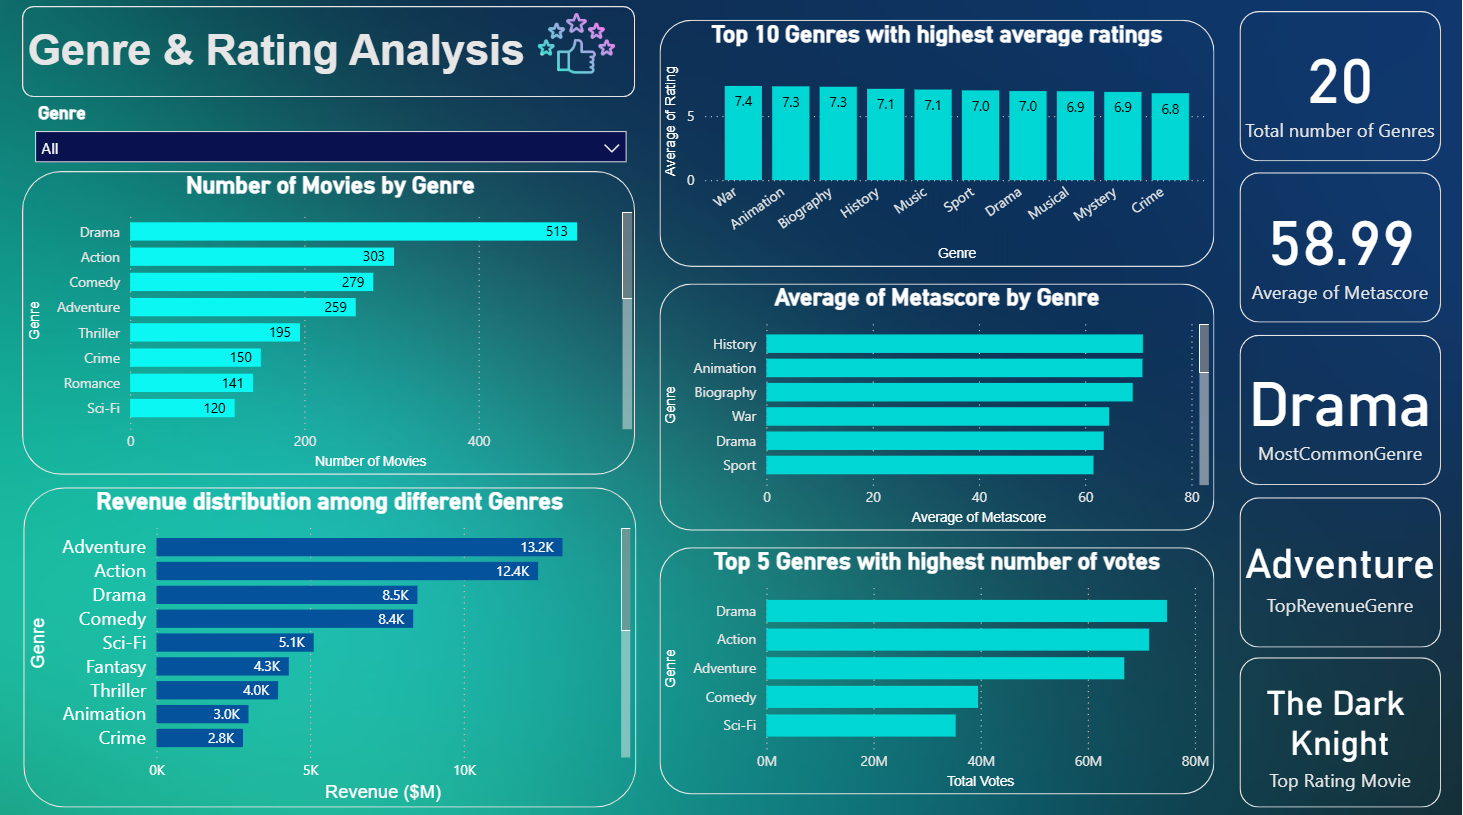

This screenshot's page, from the dashboard's own definition file:
{"tool":"powerbi","page":{"name":"Page 2","canvas":[1280,720],"ordinal":1},"visuals":[{"type":"shape","box":[21.7,8.4,535.7,79.6],"z":0,"group":"g1"},{"type":"shape","box":[21.7,153.2,535.7,265.4],"z":0},{"type":"shape","box":[22.9,429.5,535.7,279.9],"z":1000},{"type":"group","id":"g1","title":"Group 1","box":[21.7,0,592.4,88.1],"z":2000},{"type":"textbox","box":[21.7,20.5,457.2,59.1],"z":3000,"group":"g1"},{"type":"clusteredBarChart","title":"Number of Movies by Genre","fields":{"Category":["IMDB-Genres.Genre"],"Y":["CountNonNull(IMDB-Genres.Title)"]},"box":[22.9,153.2,536.9,265.4],"z":3000},{"type":"image","box":[396.9,0,217.2,82],"z":4000,"group":"g1"},{"type":"clusteredBarChart","title":"Revenue  distribution among different Genres","fields":{"Category":["IMDB-Genres.Genre"],"Y":["Sum(IMDB-Genres.RevenuePerGenre)"]},"box":[22.9,429.5,535.7,279.9],"z":4000},{"type":"shape","box":[579.1,20.5,485,216],"z":5000},{"type":"shape","box":[579.1,250.9,485,216],"z":6000},{"type":"shape","box":[579.1,481.4,485,216],"z":7000},{"type":"columnChart","title":"Top 10 Genres with highest average ratings","fields":{"Category":["IMDB-Genres.Genre"],"Y":["Avg(IMDB-Genres.Rating)"]},"box":[579.1,20.5,485,216],"z":8000},{"type":"barChart","fields":{"Category":["IMDB-Genres.Genre"],"Y":["Avg(IMDB-Genres.Metascore)"]},"box":[579.1,250.9,485,216],"z":9000},{"type":"clusteredBarChart","title":"Top 5 Genres with highest number of votes","fields":{"Category":["IMDB-Genres.Genre"],"Y":["Sum(IMDB-Genres.Votes)"]},"box":[579.1,481.4,485,216],"z":10000},{"type":"shape","box":[1085.8,13.3,176.1,131.5],"z":11000},{"type":"card","fields":{"Values":["Count(IMDB-Genres.Genre)"]},"box":[1085.8,13.3,176.1,130.3],"z":12000},{"type":"shape","box":[1085.8,154.4,176.1,131.5],"z":13000},{"type":"shape","box":[1085.8,295.6,176.1,131.5],"z":14000},{"type":"shape","box":[1085.8,437.9,176.1,131.5],"z":15000},{"type":"card","fields":{"Values":["Avg(IMDB-Movies.Metascore)"]},"box":[1085.8,154.4,176.1,131.5],"z":16000},{"type":"card","fields":{"Values":["IMDB-Genres.MostCommonGenre"]},"box":[1085.8,294.4,176.1,131.5],"z":17000},{"type":"card","fields":{"Values":["IMDB-Genres.TopRevenueGenre"]},"box":[1085.8,437.9,176.1,131.5],"z":18000},{"type":"shape","box":[1085.8,577.9,176.1,131.5],"z":19000},{"type":"card","fields":{"Values":["IMDB-Movies.Top Rating Movie"]},"box":[1085.8,577.9,176.1,131.5],"z":20000},{"type":"slicer","fields":{"Values":["IMDB-Genres.Genre"]},"box":[22.9,88.1,536.9,65.1],"z":21000}]}

Visuals, with their boxes in screenshot pixels (x1, y1, x2, y2), scaled from the page's 1280x720 canvas onto the 1463x815 screenshot:
shape: (25,10,637,100)
shape: (25,173,637,474)
shape: (26,486,638,803)
"Group 1" group: (25,0,702,100)
textbox: (25,23,547,90)
"Number of Movies by Genre" clusteredBarChart: (26,173,640,474)
image: (454,0,702,93)
"Revenue  distribution among different Genres" clusteredBarChart: (26,486,638,803)
shape: (662,23,1216,268)
shape: (662,284,1216,529)
shape: (662,545,1216,789)
"Top 10 Genres with highest average ratings" columnChart: (662,23,1216,268)
barChart - IMDB-Genres.Genre x Avg(IMDB-Genres.Metascore): (662,284,1216,529)
"Top 5 Genres with highest number of votes" clusteredBarChart: (662,545,1216,789)
shape: (1241,15,1442,164)
card - Count(IMDB-Genres.Genre): (1241,15,1442,163)
shape: (1241,175,1442,324)
shape: (1241,335,1442,483)
shape: (1241,496,1442,645)
card - Avg(IMDB-Movies.Metascore): (1241,175,1442,324)
card - IMDB-Genres.MostCommonGenre: (1241,333,1442,482)
card - IMDB-Genres.TopRevenueGenre: (1241,496,1442,645)
shape: (1241,654,1442,803)
card - IMDB-Movies.Top Rating Movie: (1241,654,1442,803)
slicer - IMDB-Genres.Genre: (26,100,640,173)
